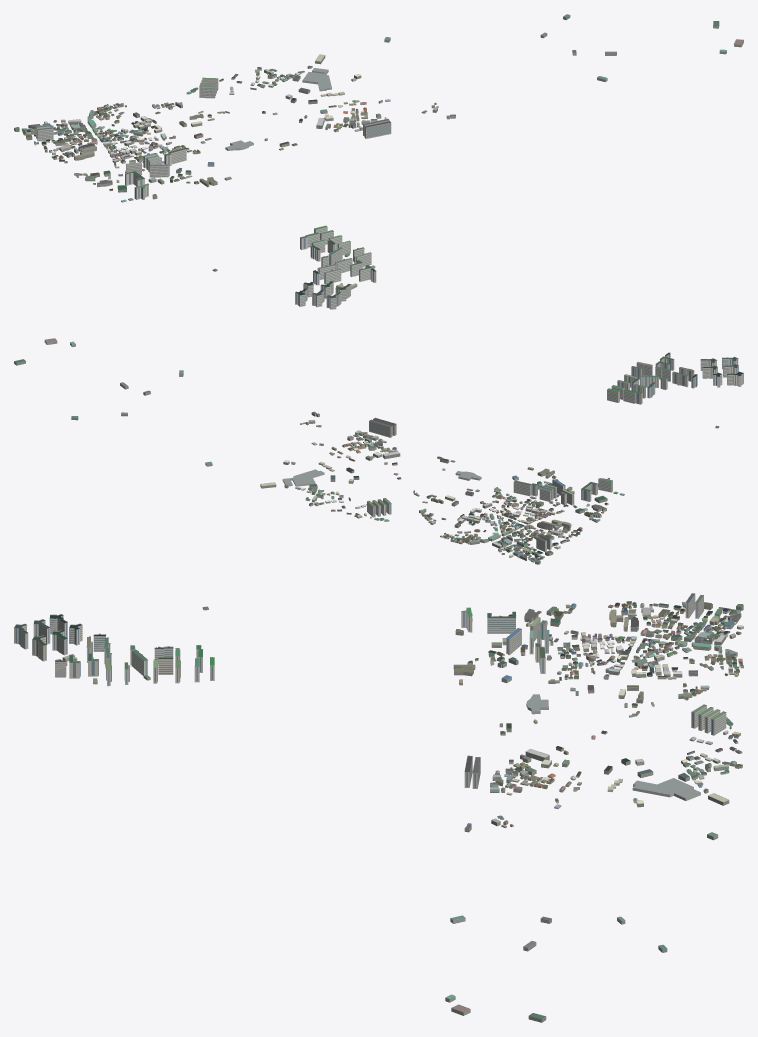
3 views of the same model, one above another, from view 1: azimuth 30°, elevation 25°; view 2: azimuth 150°, elevation 25°; view 3: azimuth 270°, elevation 25° (orthographic). The views are drawn at different scales.
Visible parts, largest first — view 1: context-buildings-far, context-buildings-near; view 2: context-buildings-far, context-buildings-near; view 3: context-buildings-far, context-buildings-near.
Part boxes in pixels (box(x1,y1,x2,y2)): context-buildings-far: box(14, 14, 743, 309); context-buildings-near: box(264, 74, 607, 150); context-buildings-far: box(14, 338, 743, 564); context-buildings-near: box(179, 370, 455, 479); context-buildings-far: box(14, 593, 743, 1022); context-buildings-near: box(450, 719, 643, 923).
Size of the model in its own units: 2548 by 68.68 by 1848.
